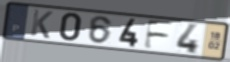0: (58, 12, 84, 42)
4: (175, 23, 202, 55), (117, 18, 140, 48)
6: (88, 15, 115, 45)
F: (142, 18, 177, 50)
K: (29, 8, 55, 40)
